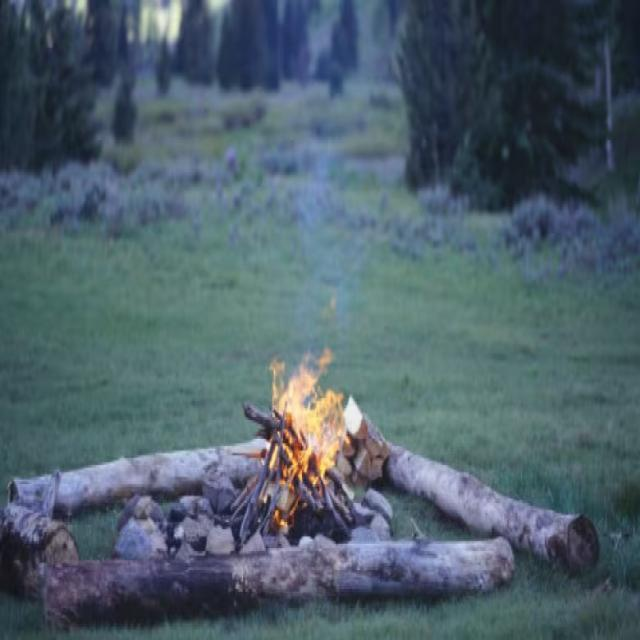Fire: (253, 338, 366, 503)
